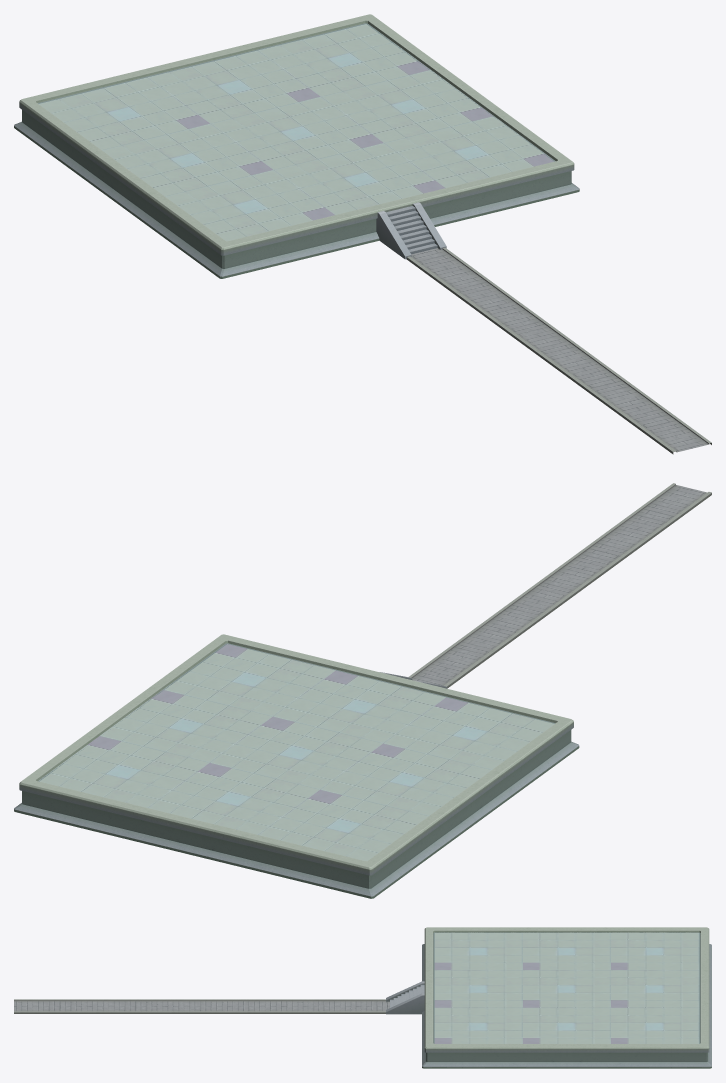
Rendered from wudaohui_wudoutai.FBX.
3 views of the same model, one above another, from view 1: azimuth 30°, elevation 25°; view 2: azimuth 150°, elevation 25°; view 3: azimuth 270°, elevation 25° (orthographic). The views are drawn at different scales.
Visible parts, largest first — view 1: wudaohui_dizhuan, wudaohui_leitai; view 2: wudaohui_dizhuan, wudaohui_leitai; view 3: wudaohui_dizhuan, wudaohui_leitai.
Boxes of the visible parts, x1,y1,x2,y2 form: wudaohui_dizhuan: (39,24,553,241); wudaohui_leitai: (14,14,711,454); wudaohui_dizhuan: (39,644,554,860); wudaohui_leitai: (14,483,711,898); wudaohui_dizhuan: (434,932,699,1043); wudaohui_leitai: (14,927,711,1068).
Size of the model in its own units: 2865 by 222 by 6896.
